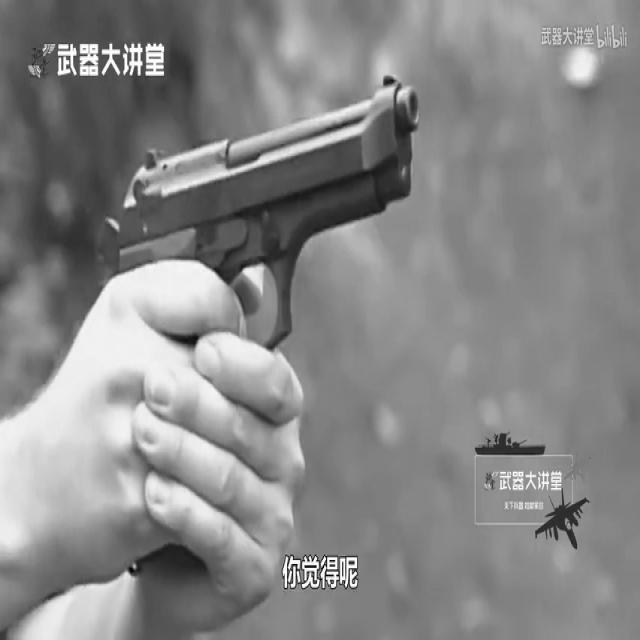Hand-Gun: (97, 63, 430, 565)
